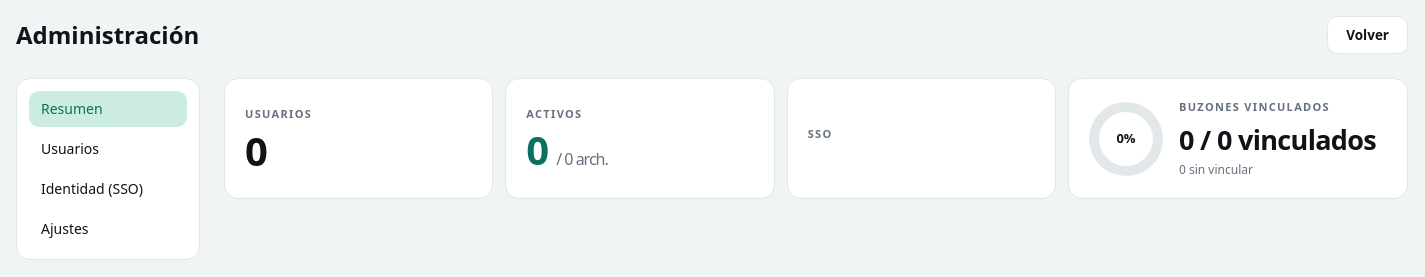
AdminPage instance settings panel (GH #86) › reflects the fetched value: unchecked when sentWithFooter is false (default-off)
The width and height of the screenshot is (1425, 277).
Click the button "Ajustes" at (108, 229), box [29, 211, 187, 247]
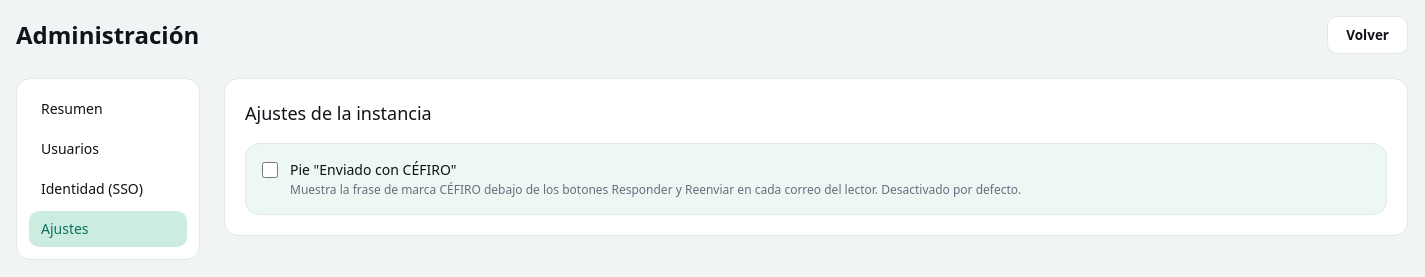
Expected: the checkbox labelled "Pie \"Enviado con CÉFIRO\"" is not checked, [262, 162, 278, 178]
